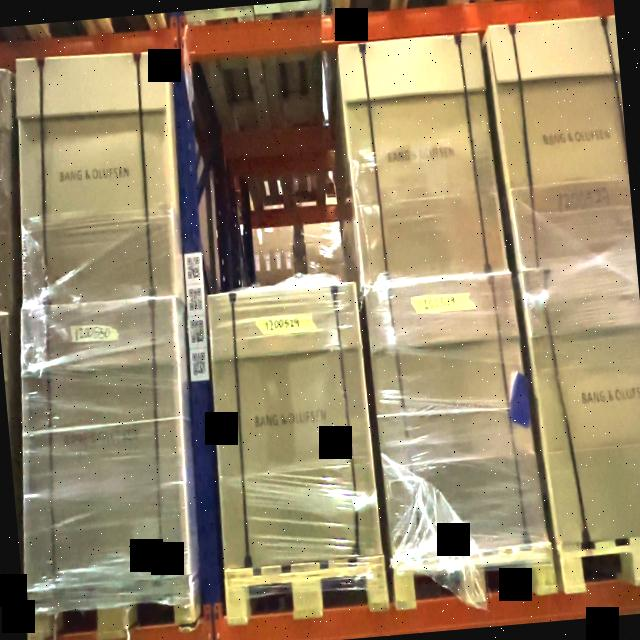box: (28, 314, 198, 615), (209, 284, 383, 566), (11, 41, 179, 311), (371, 290, 543, 549), (338, 42, 499, 276), (490, 23, 634, 255), (525, 265, 640, 543)
